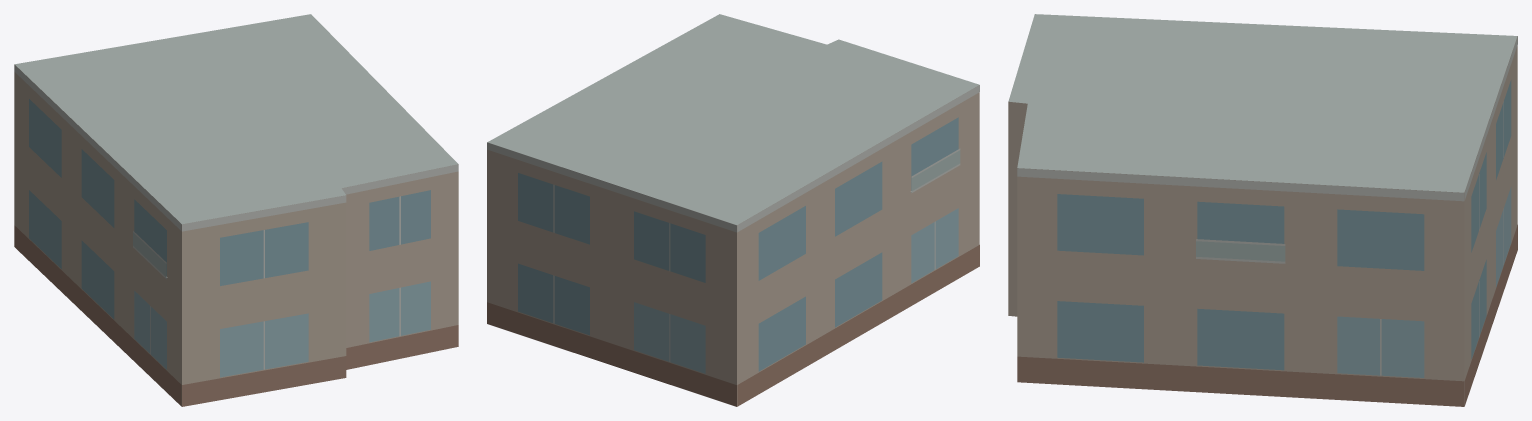
File: survey-upis-32592422.glb
The picture shows the model from 3 angles, left to right: view 1: azimuth 30°, elevation 25°; view 2: azimuth 150°, elevation 25°; view 3: azimuth 270°, elevation 25°; orthographic projection. The views are drawn at different scales.
Parts seen in each view (by area): view 1: survey-upis-32592422.tmp; view 2: survey-upis-32592422.tmp; view 3: survey-upis-32592422.tmp.
Part boxes in pixels (bbox=[...]): survey-upis-32592422.tmp: bbox=[14, 14, 458, 406]; survey-upis-32592422.tmp: bbox=[487, 14, 979, 406]; survey-upis-32592422.tmp: bbox=[1008, 14, 1517, 406].
Bounding box in the file's own units: 10.93 × 6.1 × 13.16.
